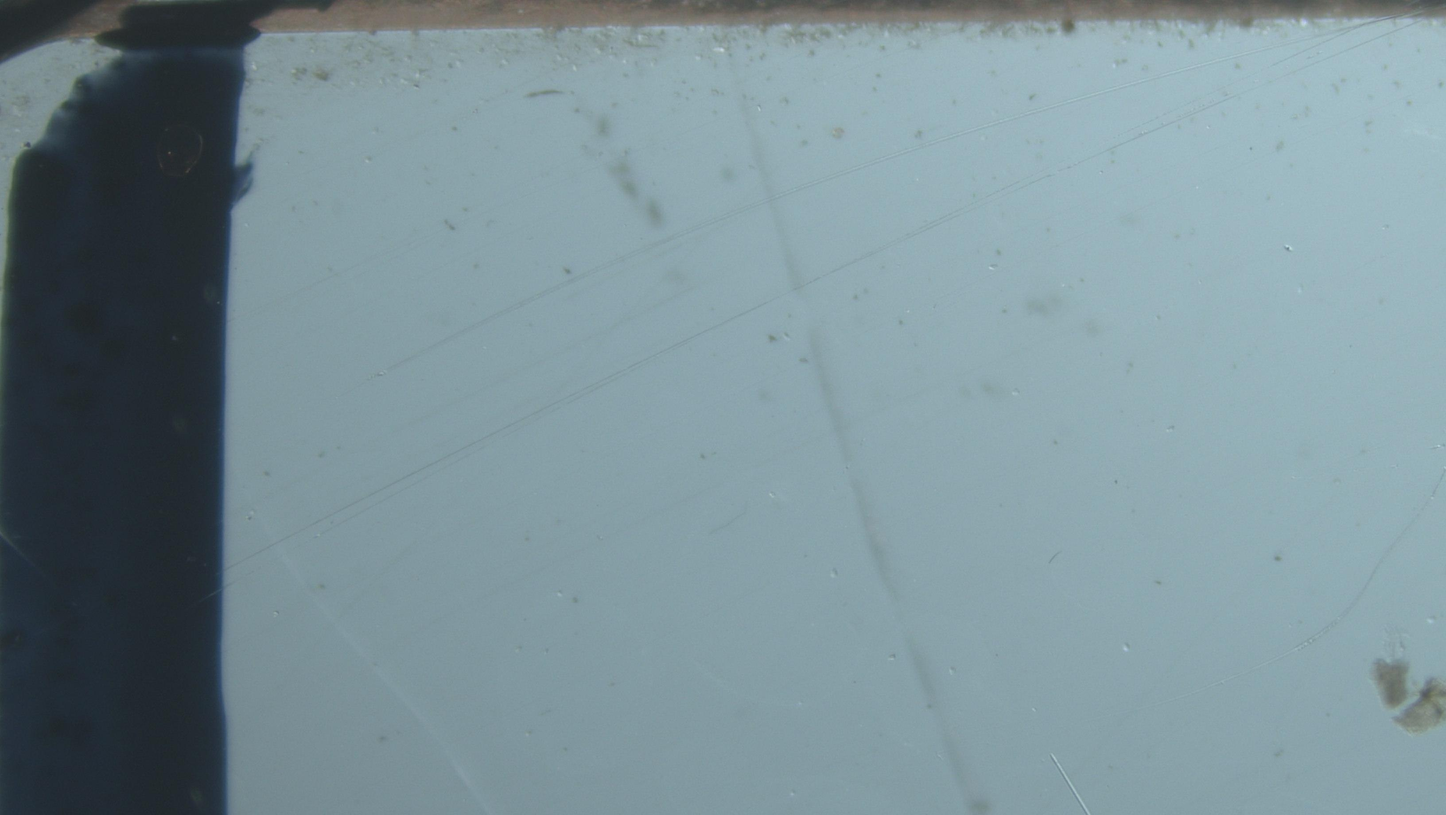dead: (157, 125, 204, 177)
